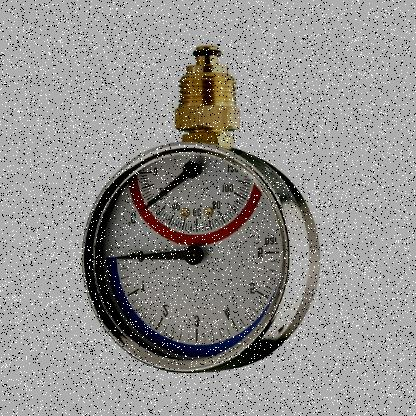needle: (141, 172, 189, 212), (114, 249, 186, 261)
